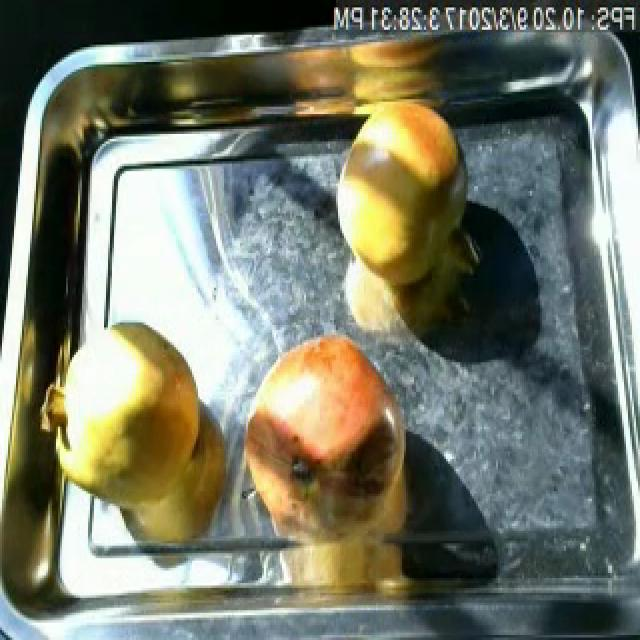fruit: (232, 322, 418, 566), (44, 300, 212, 526), (330, 91, 472, 292)
